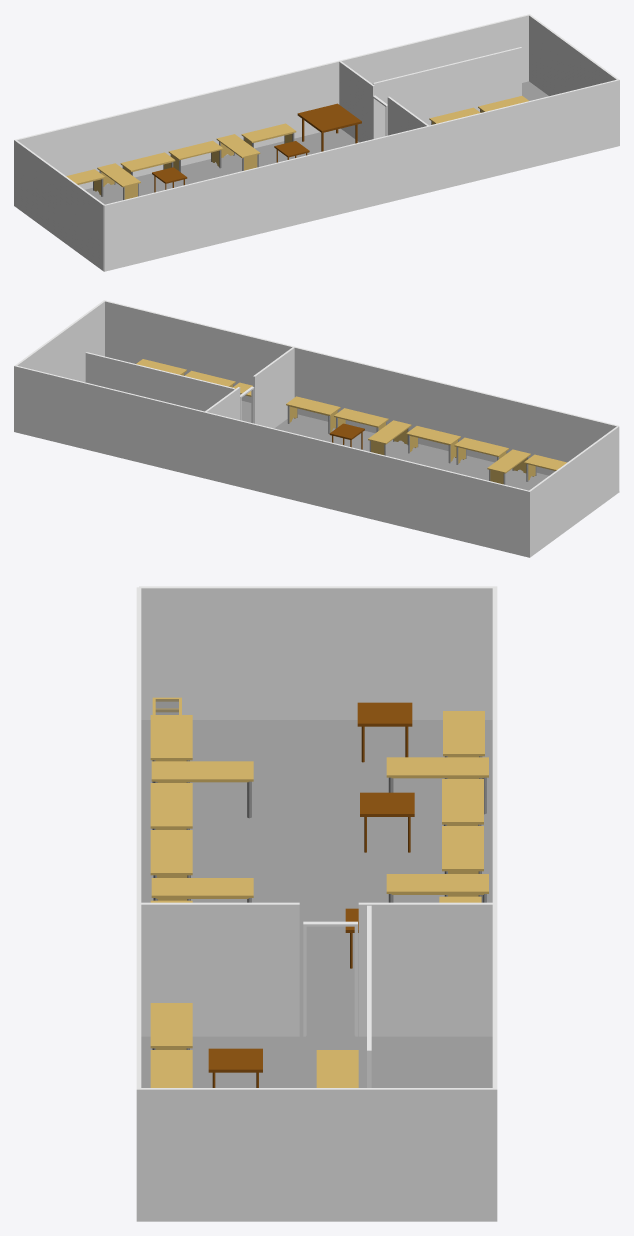
The model's file is wildflower mock.obj.
3 renders of one model, top to bottom at view 1: azimuth 30°, elevation 25°; view 2: azimuth 150°, elevation 25°; view 3: azimuth 270°, elevation 25°, orthographic. The views are drawn at different scales.
Visible parts, largest first — view 1: wall_1_5, wall_4_22, wall_6_35, wall_9_53, wall_5_29, wall_8_46, ground_1, wall_7_40, wall_3_16, Plateau_165, Boolean_8_154, wall_2_10 (+12 smaller); view 2: wall_4_23, wall_1_4, wall_8_47, wall_6_34, wall_5_29, wall_9_52, ground_1, wall_7_40, wall_2_10, Boolean_8_93, Boolean_8_78, Boolean_8_98 (+10 smaller); view 3: ground_1, wall_7_41, wall_5_28, wall_2_11, wall_3_17, Boolean_8_78, Boolean_8_139, Boolean_8_93, Boolean_8_154, Boolean_8_88, Boolean_8_149, Boolean_8_73 (+14 smaller).
Part boxes in pixels (box(x1,y1,x2,y2)): wall_1_5: box(104, 126, 430, 271); wall_4_22: box(17, 62, 339, 189); wall_6_35: box(430, 80, 619, 192); wall_9_53: box(373, 48, 521, 138); wall_5_29: box(14, 140, 104, 271); wall_8_46: box(341, 15, 528, 83); ground_1: box(85, 81, 548, 271); wall_7_40: box(529, 15, 616, 95); wall_3_16: box(339, 62, 373, 142); Plateau_165: box(297, 103, 361, 132); Boolean_8_154: box(216, 134, 260, 170); wall_2_10: box(387, 97, 426, 135); wall_4_23: box(204, 412, 529, 557); wall_1_4: box(294, 348, 616, 475); wall_8_47: box(14, 366, 204, 478); wall_6_34: box(105, 301, 292, 402); wall_5_29: box(530, 427, 619, 557); wall_9_52: box(85, 353, 234, 411); ground_1: box(85, 382, 548, 490); wall_7_40: box(17, 301, 104, 381); wall_2_10: box(254, 348, 294, 428); Boolean_8_93: box(368, 420, 411, 454); Boolean_8_78: box(487, 449, 530, 484); Boolean_8_98: box(286, 396, 340, 432); ground_1: box(141, 720, 492, 1087); wall_7_41: box(136, 1089, 497, 1221); wall_5_28: box(141, 588, 492, 719); wall_2_11: box(141, 904, 299, 1036); wall_3_17: box(358, 904, 492, 1036); Boolean_8_78: box(151, 761, 253, 782); Boolean_8_139: box(386, 757, 488, 778); Boolean_8_93: box(151, 878, 253, 898); Boolean_8_154: box(386, 874, 488, 894); Boolean_8_88: box(150, 830, 192, 900); Boolean_8_149: box(442, 826, 483, 896); Boolean_8_73: box(150, 715, 192, 782).
Size of the model in its own units: 1996 by 244 by 604.
